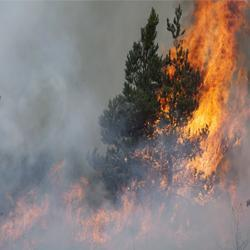fire: (192, 0, 233, 126)
